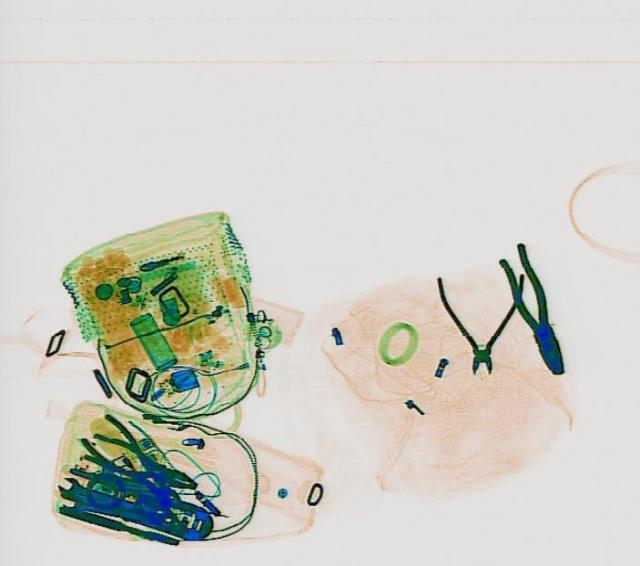Pliers: (50, 458, 222, 542), (434, 271, 526, 375), (76, 428, 204, 499)
Wrench: (490, 240, 578, 376), (52, 472, 150, 517)
